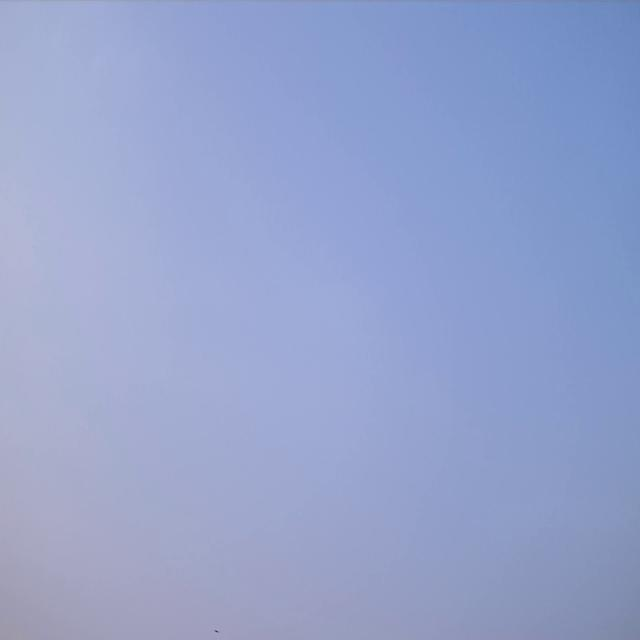UAV: (214, 629, 218, 634)
